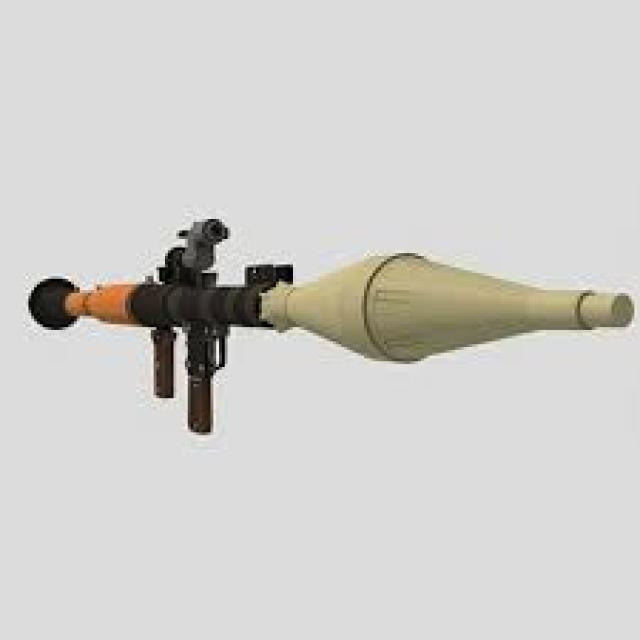bazooka: (22, 209, 636, 412)
